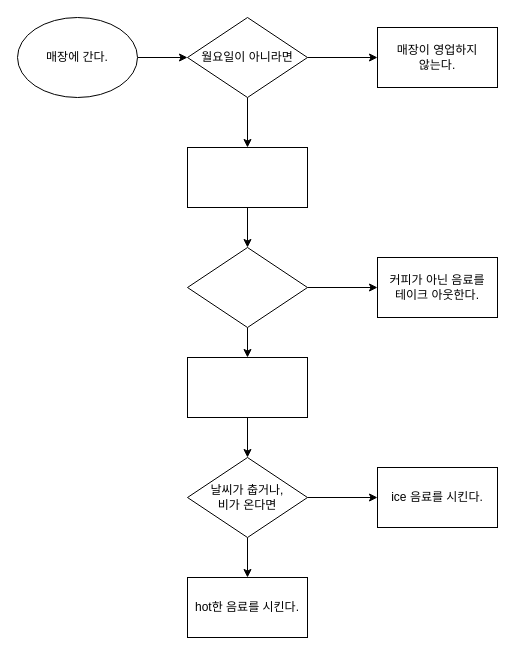
Some shapes in this 515 by 655 pixel diagram are drawn without their labels. Here are the shapes that lost their labels. From the top down, the centre of each, then its label:
At [247,177]: "음료를 주문한다.".
At [247,287]: "오전이라면".
At [247,387]: "매장에서 마신다.".
